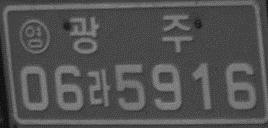0: (18, 64, 49, 112)
1: (188, 63, 219, 111)
5: (113, 62, 147, 111)
6: (225, 62, 257, 110), (53, 63, 84, 111)
9: (150, 63, 182, 111)
광주_D: (68, 14, 193, 54)
라: (86, 68, 111, 106)
영: (18, 18, 51, 54)
